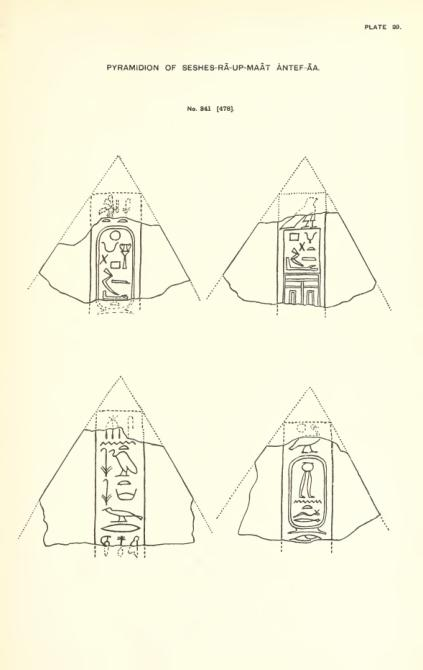circle: (94, 224, 137, 317), (285, 453, 330, 539)
